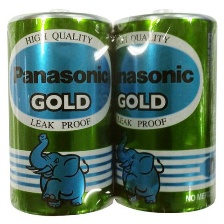battery: (4, 6, 117, 218), (109, 5, 219, 215)
